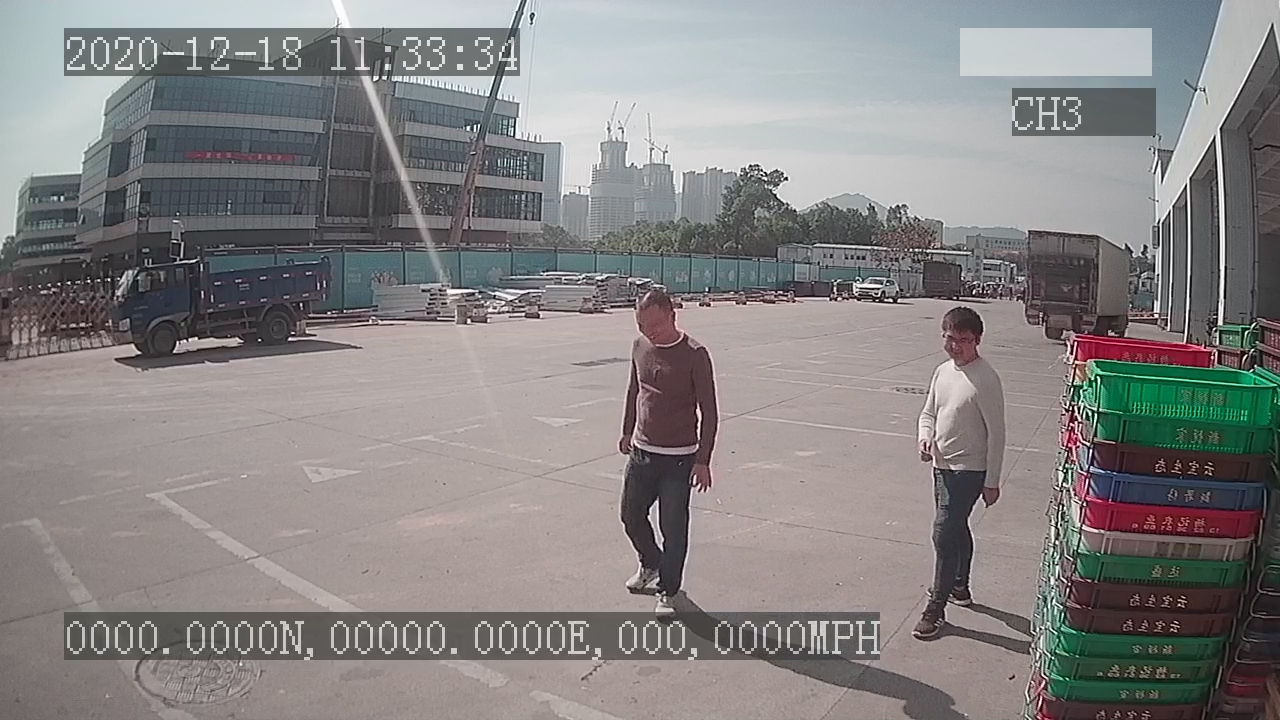person: (908, 300, 1005, 640)
